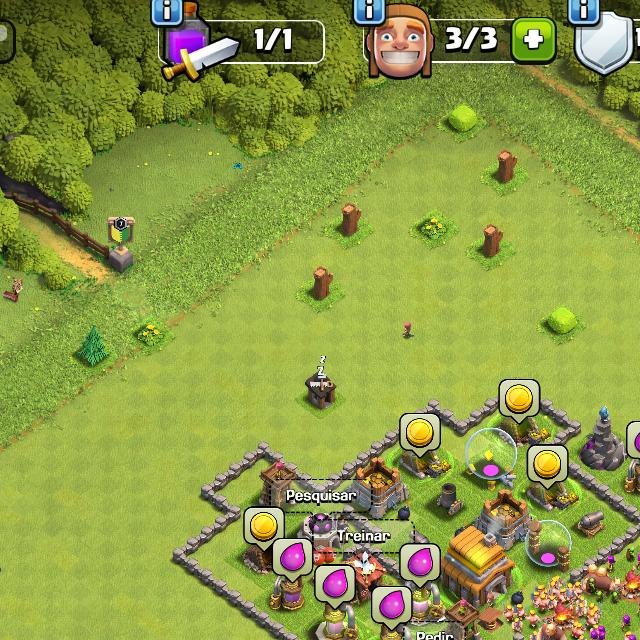Elixir: (401, 544, 441, 588), (272, 539, 312, 583), (373, 587, 412, 632), (315, 565, 355, 607), (627, 422, 640, 458)
coin: (498, 378, 542, 424), (400, 412, 441, 457), (246, 506, 285, 552), (528, 445, 568, 489)
